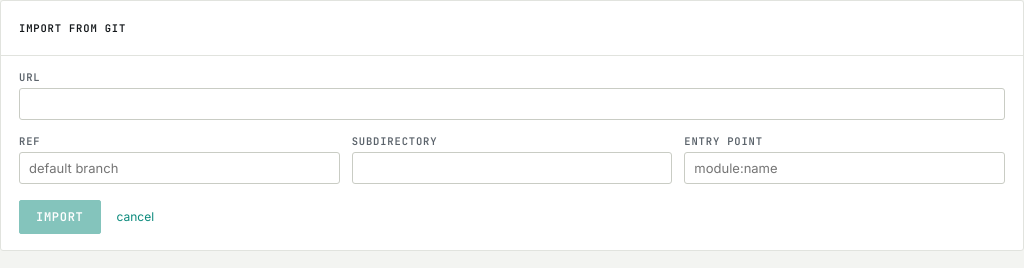
Scenario: the import form › says why the monitor refused the import
In the field labelled "URL": (512, 104) [19,88,1005,120], type " https://example.com/words.git "
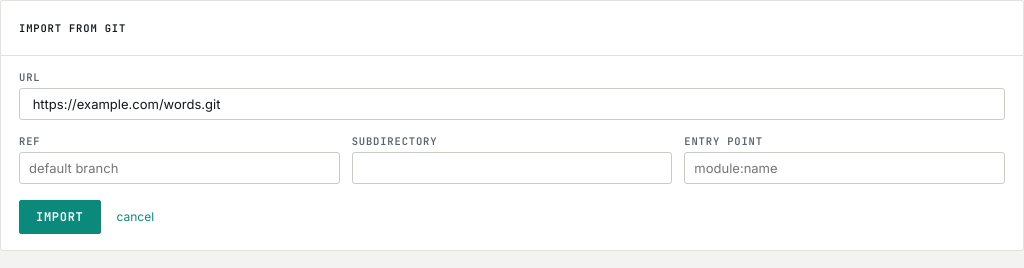
In the field labelled "Ref": (179, 168) [19,152,340,184], type "v1"
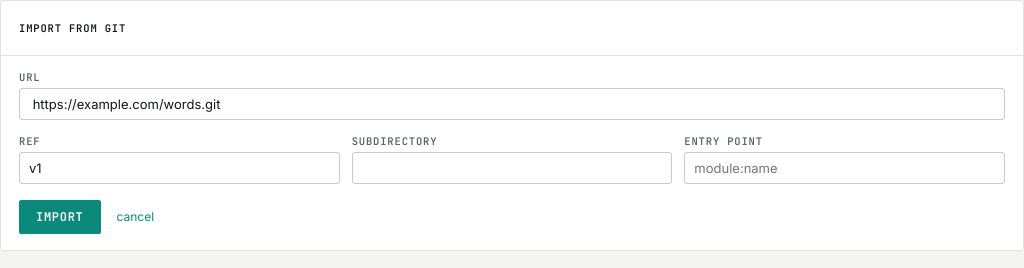
In the field labelled "Subdirectory": (512, 168) [352,152,672,184], type "envs/words"
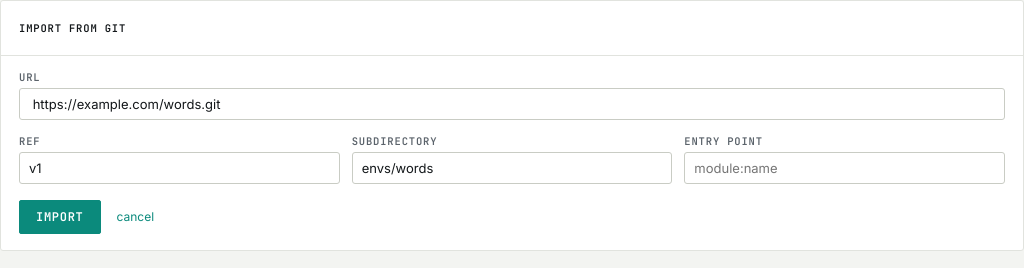
Click the button "Import": (60, 217) [19,200,100,234]
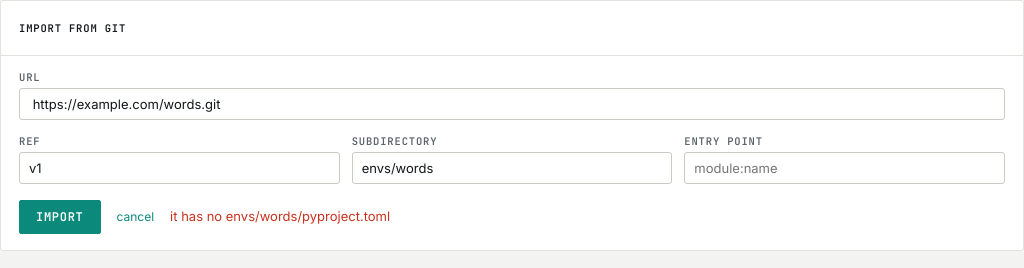
Expected: the message reads "it has no envs/words/pyproject.toml", [170,208,390,224]
